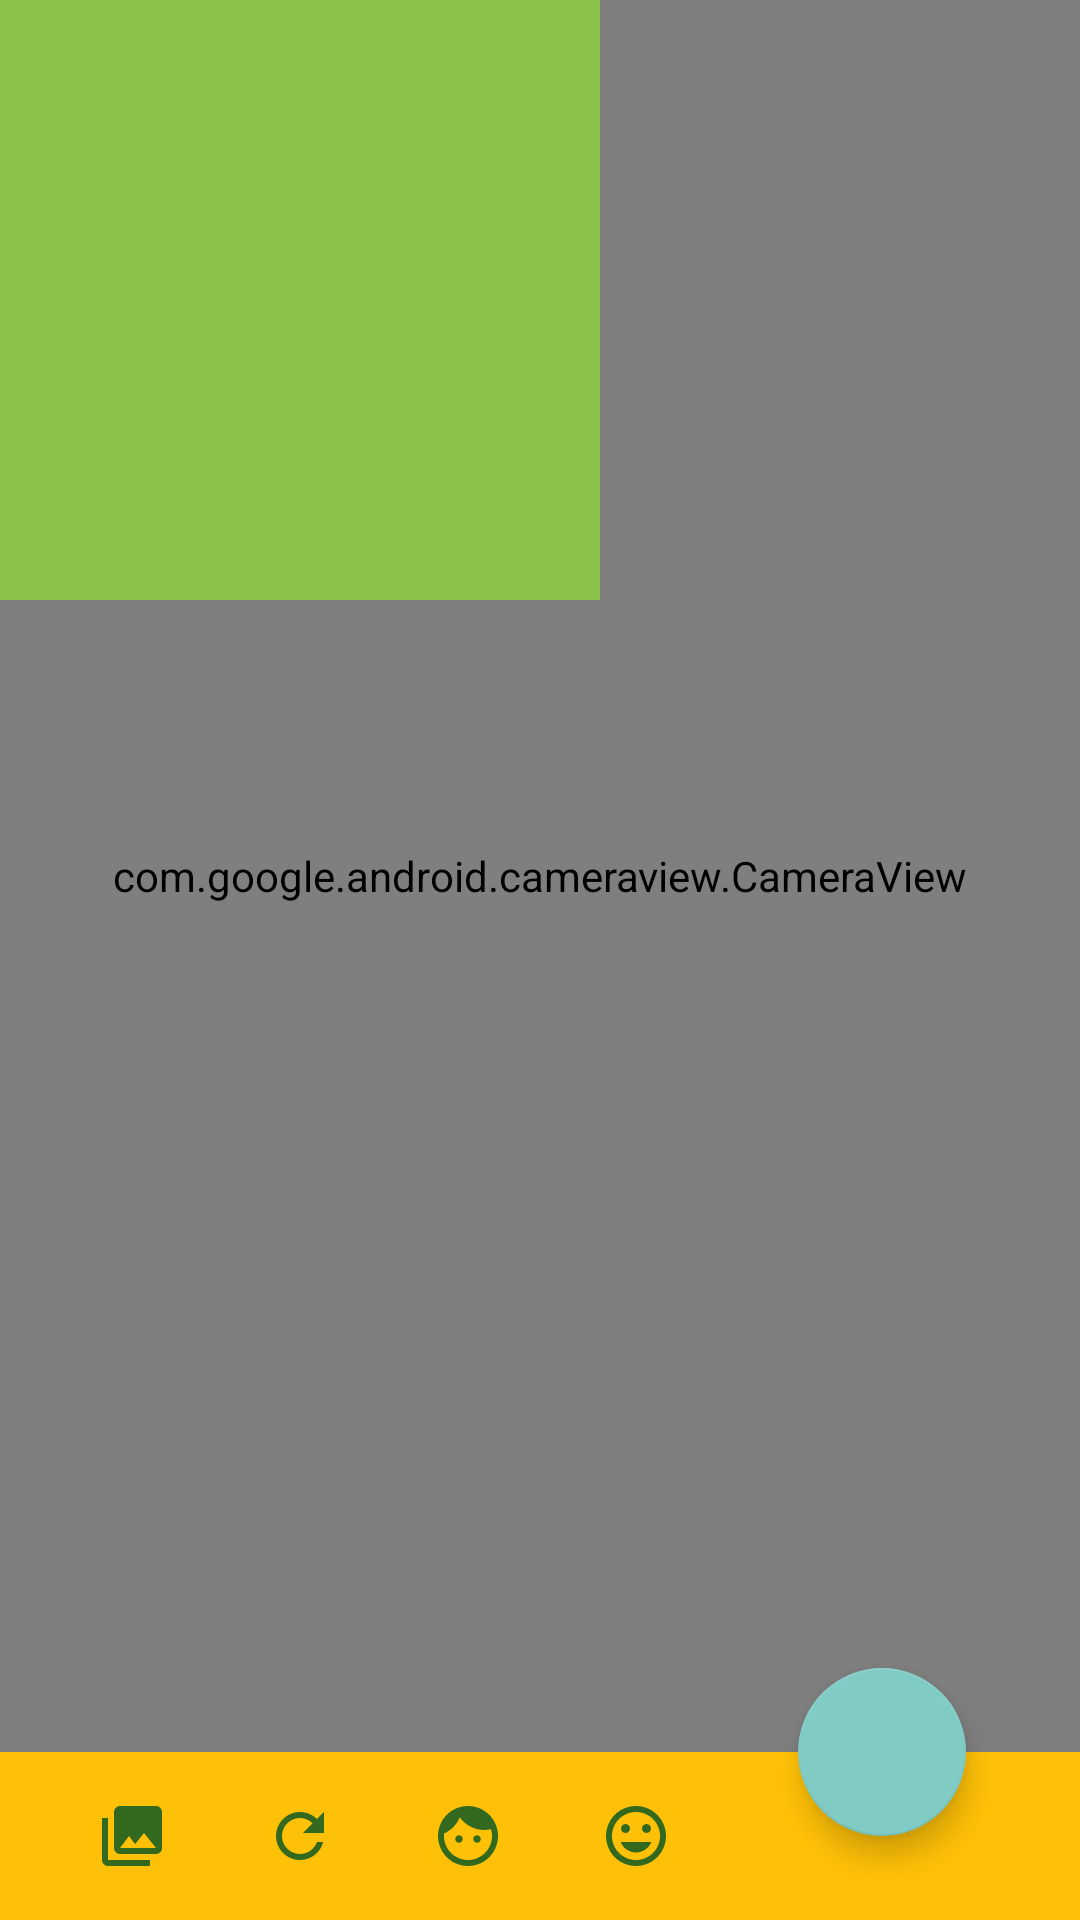

Point at icon controls on the screen. Image size 1080x1920, points as (x,y).
gallery: (132,1836)
refresh: (300,1836)
